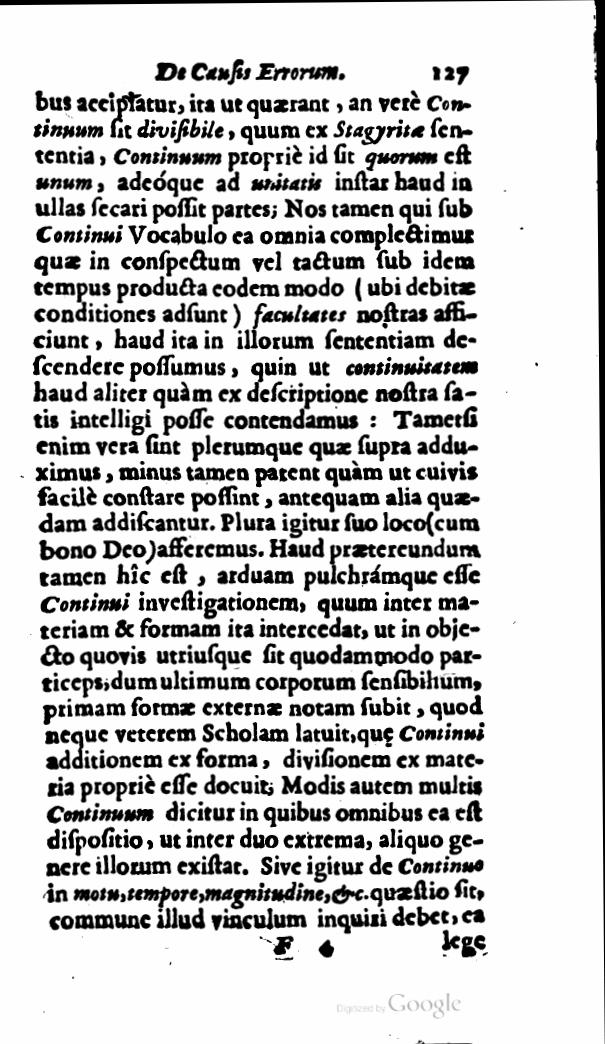catchword: (440, 930, 486, 959)
header: (152, 57, 349, 86)
page_num: (431, 64, 470, 87)
signature: (271, 935, 339, 961)
top_p: (31, 88, 488, 934)
